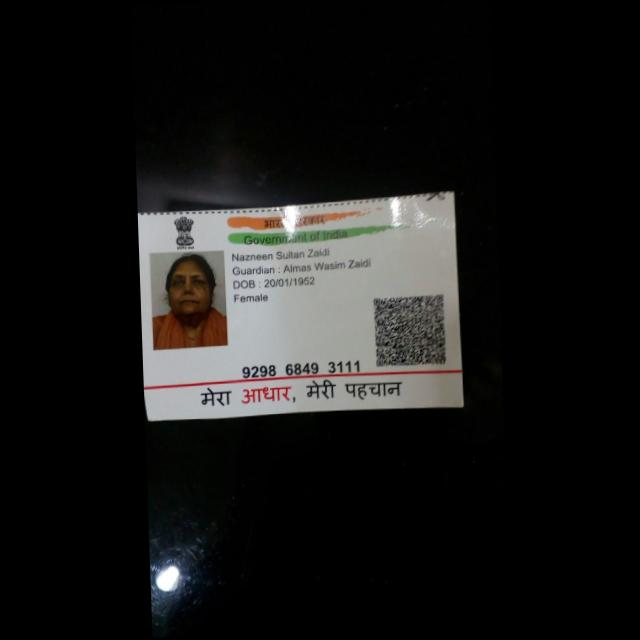aadhaar: (136, 188, 471, 430)
